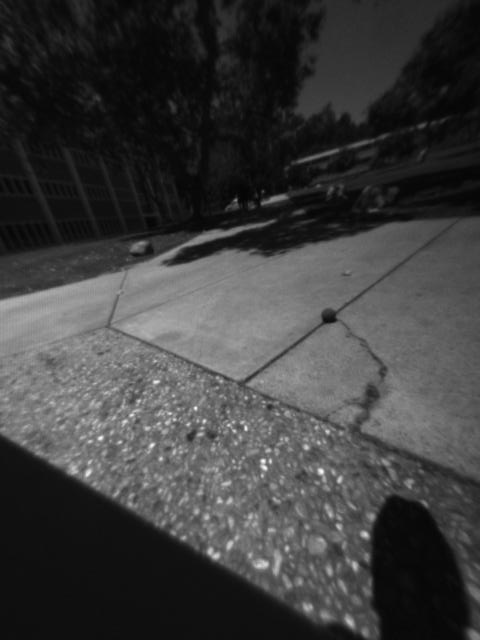dogtoy: (316, 300, 350, 327)
